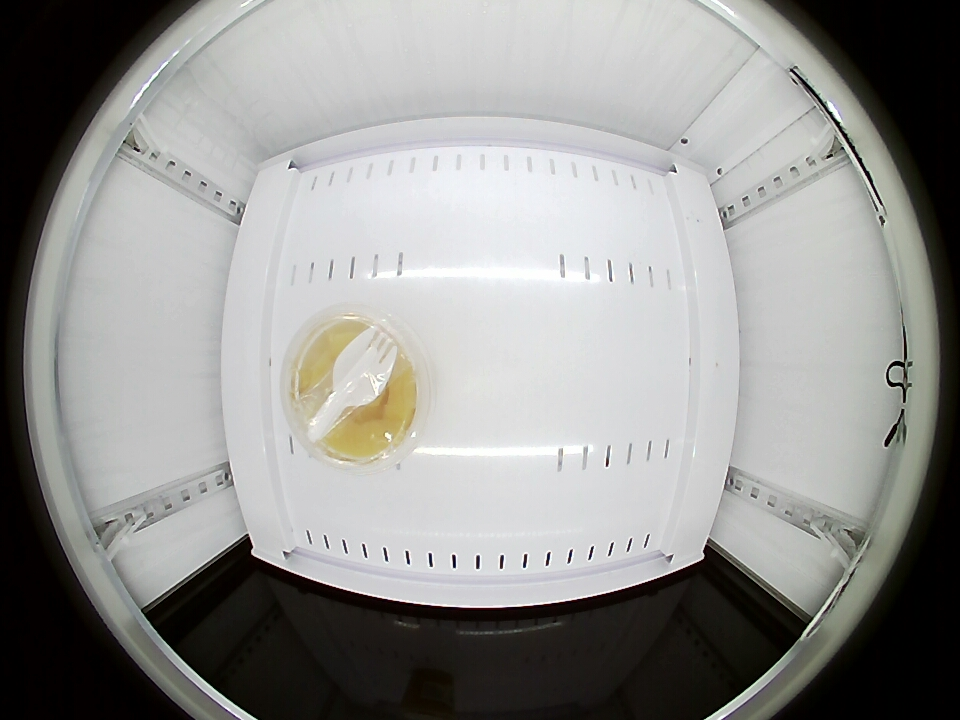xianguolao: (279, 308, 427, 472)
